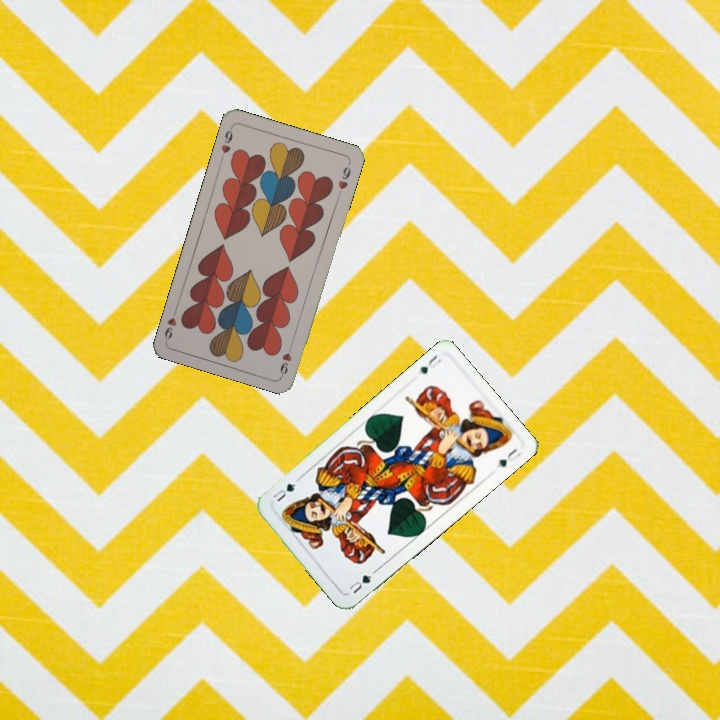GU: (414, 351, 444, 378), (345, 571, 374, 597)
H9: (217, 123, 236, 163), (276, 338, 295, 378)
